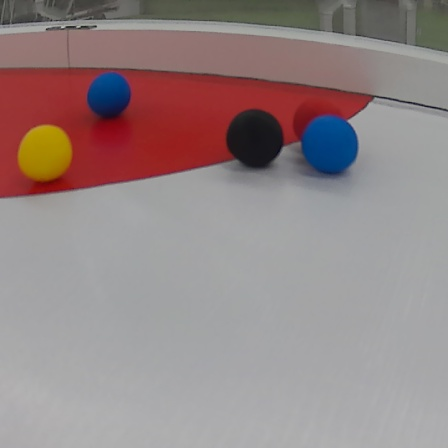black: (229, 105, 285, 170)
blue: (302, 115, 358, 182), (87, 73, 131, 115)
red: (293, 97, 339, 137)
red_base: (1, 59, 388, 189)
yellow: (17, 123, 73, 182)
